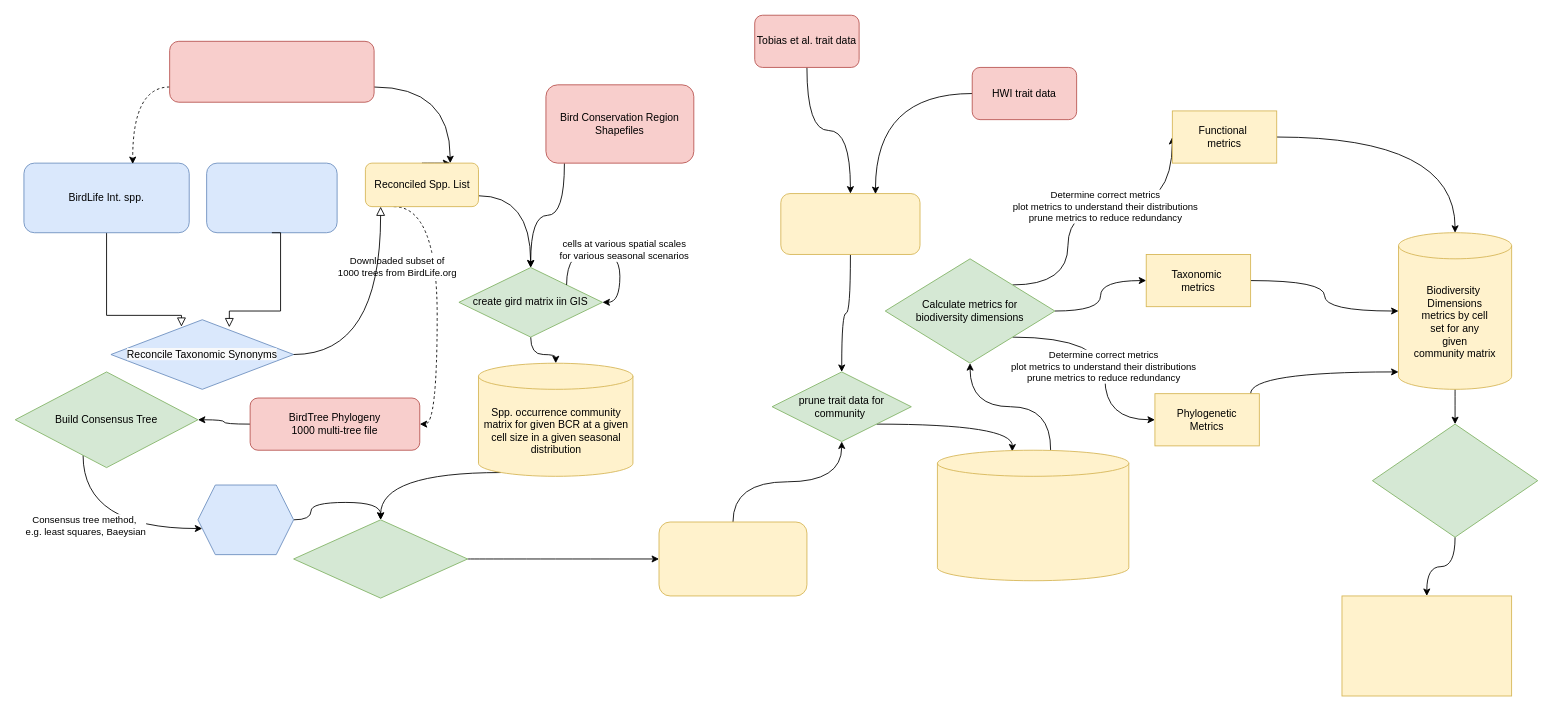
Image size: 1553x712. Some labels were removed from this diagram. The shapes that lost their labels are listed below. From the top down, each one's centre as x and y in pixels, then its label:
At point 271,71: "Bird Life Int. range shapefiles".
At point 271,197: "NAOC NA spp. list".
At point 850,223: "compiled trait data".
At point 1455,480: "PCA".
At point 245,519: "Phylogeny of Total Species".
At point 1033,515: "Community data, Phylogeny data, Trait data".
At point 380,558: "Prune tree for specific community".
At point 732,558: "community data and pruned phylogeny".
